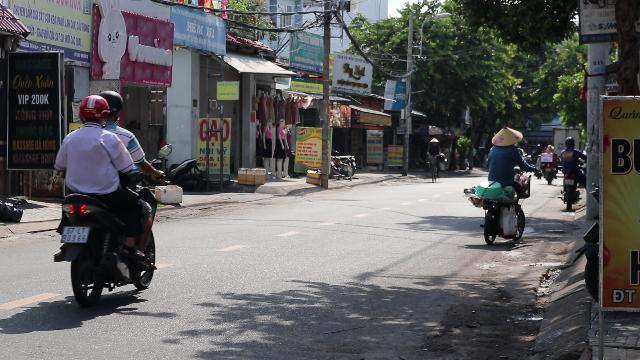helmet: (76, 94, 110, 127), (97, 90, 125, 122)
licenseplate: (62, 226, 88, 242)
motorcyclist: (46, 90, 164, 314)
